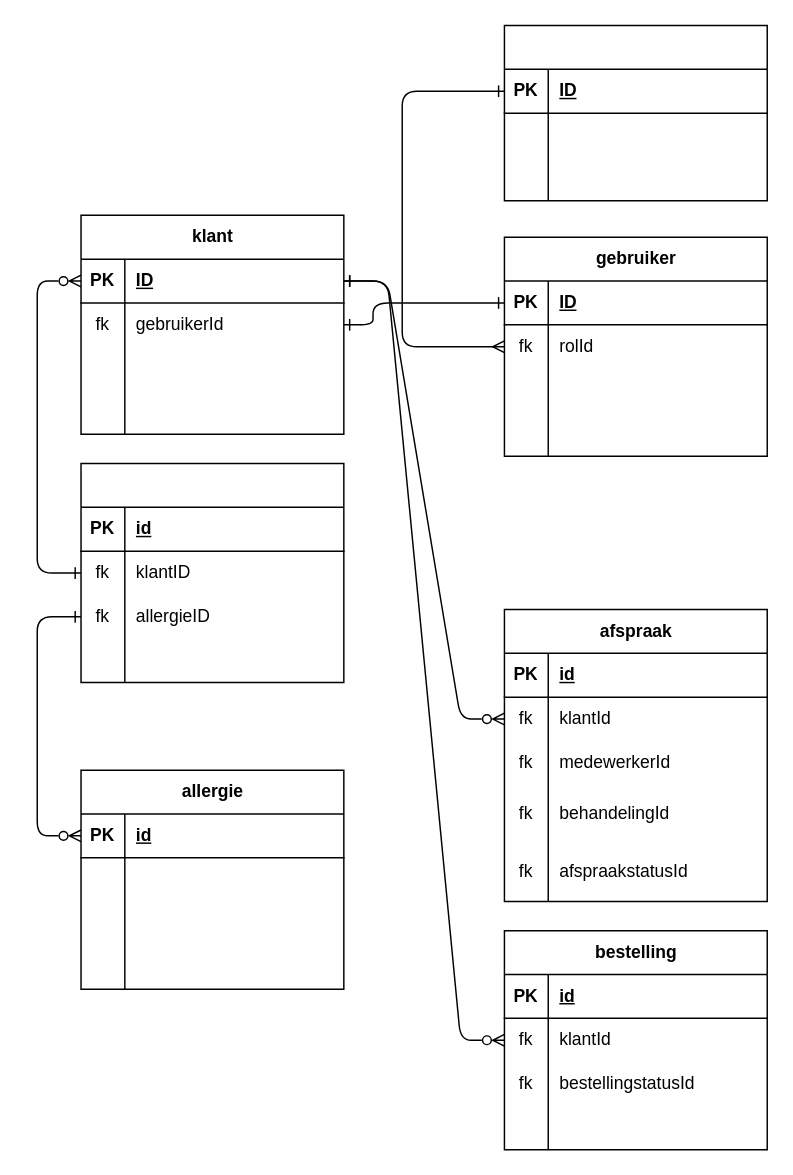
Image size: 793x1175. Some labels were removed from this diagram. Here are the shapes that lost their labels. From the top down, the box of each, then its label:
(503, 24, 767, 201): Rol
(80, 462, 344, 683): klantallergie
